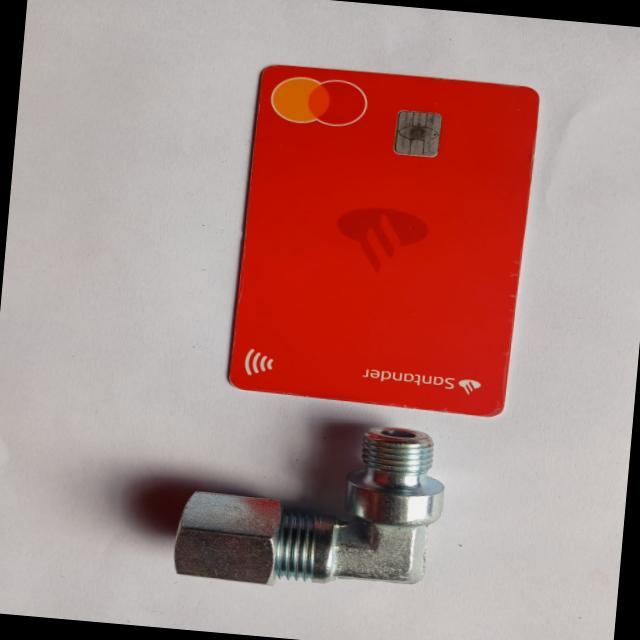cartao: (225, 61, 540, 418)
rosca_externa: (172, 409, 450, 600)
